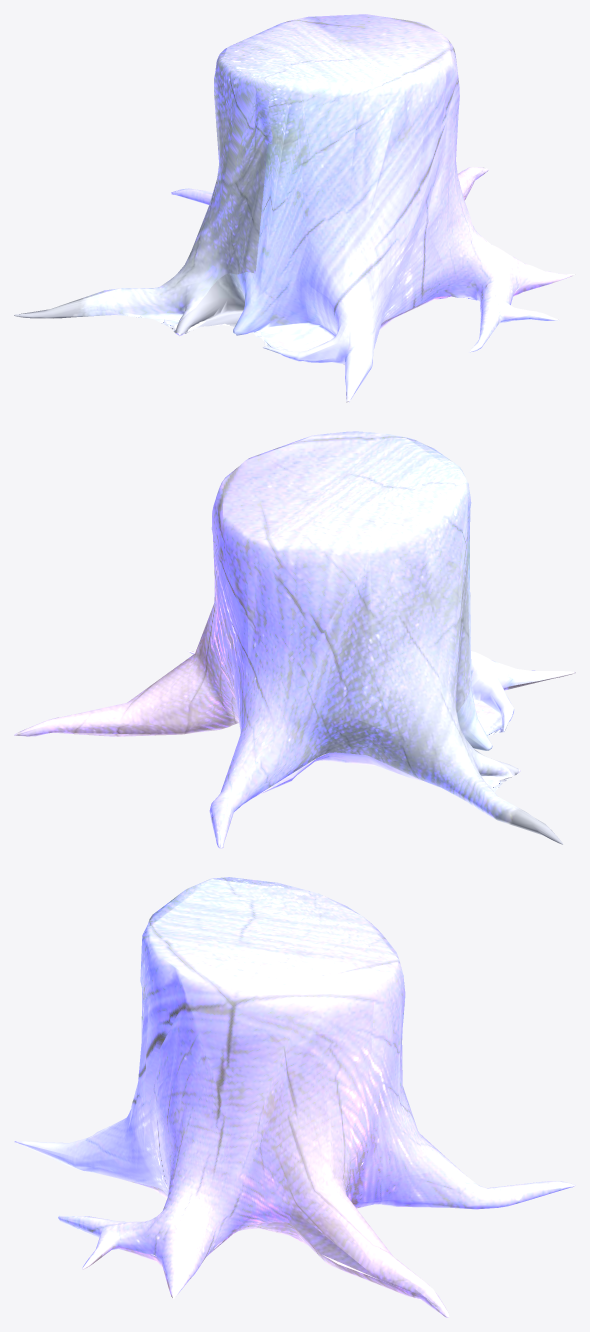
The model's file is tronc.glb.
The picture shows the model from 3 angles, top to bottom: view 1: azimuth 30°, elevation 25°; view 2: azimuth 150°, elevation 25°; view 3: azimuth 270°, elevation 25°; orthographic projection. The views are drawn at different scales.
Parts seen in each view (by area): view 1: Skin_ZSphere_1_oPP; view 2: Skin_ZSphere_1_oPP; view 3: Skin_ZSphere_1_oPP.
Part boxes in pixels (x1,y1,x2,y2): Skin_ZSphere_1_oPP: [14, 14, 575, 402]; Skin_ZSphere_1_oPP: [14, 431, 575, 848]; Skin_ZSphere_1_oPP: [14, 877, 575, 1317].
Size of the model in its own units: 51.11 by 24.77 by 45.83.
